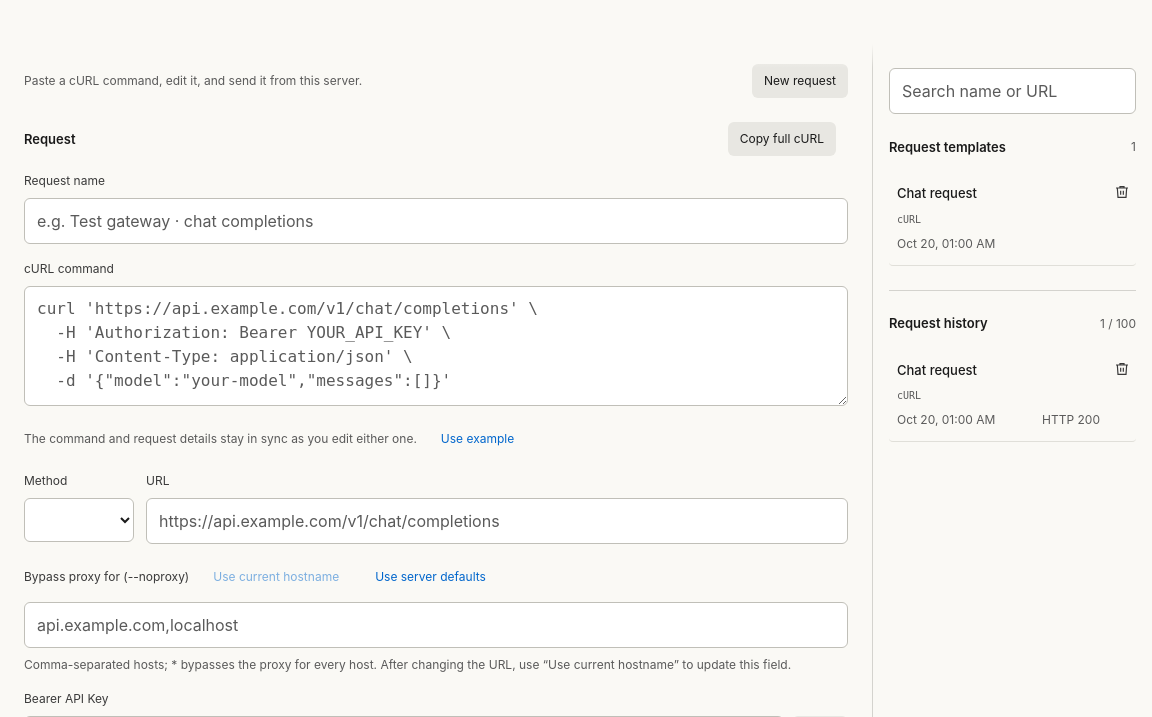
Test: cURL editor › deletes history and templates through separate actions without changing the other list
Click the button named "Delete history entry" at x=1122, y=371, box top-left (1108, 348), bottom-right (1136, 394)
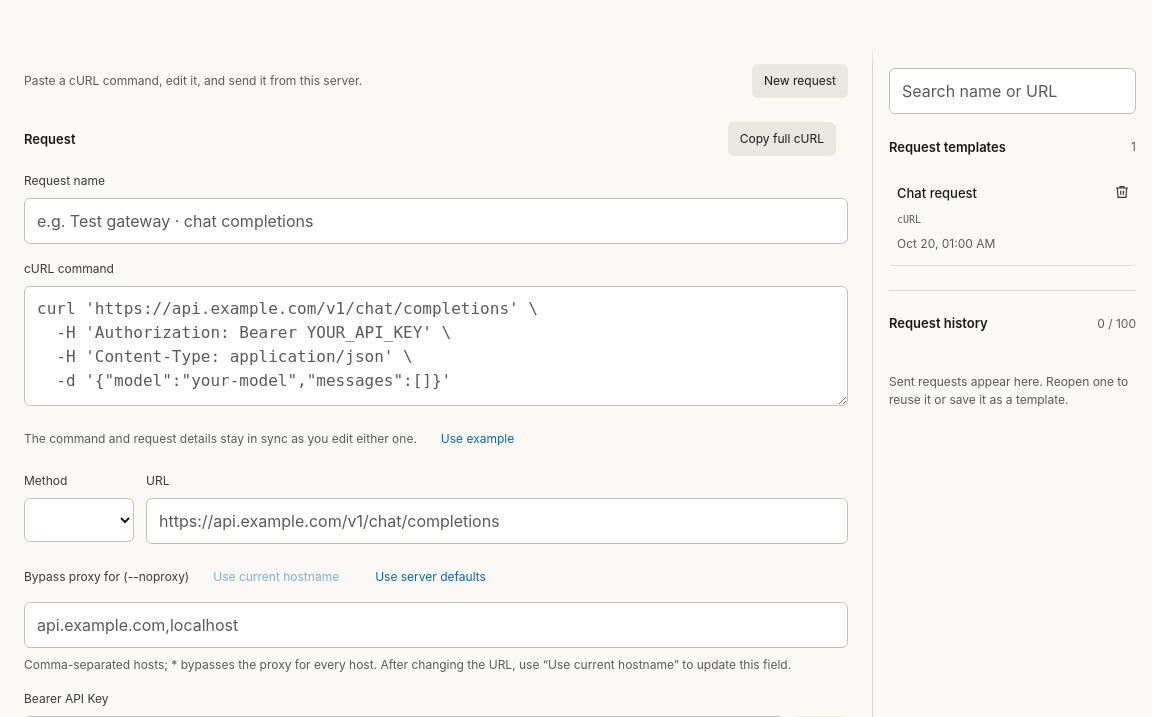
expect the button "Chat request cURL Oct 20, 01:00 AM" is shown: met, box top-left (889, 172), bottom-right (1108, 264)
Click the button named "Delete template" at x=1122, y=194, box top-left (1108, 172), bottom-right (1136, 217)
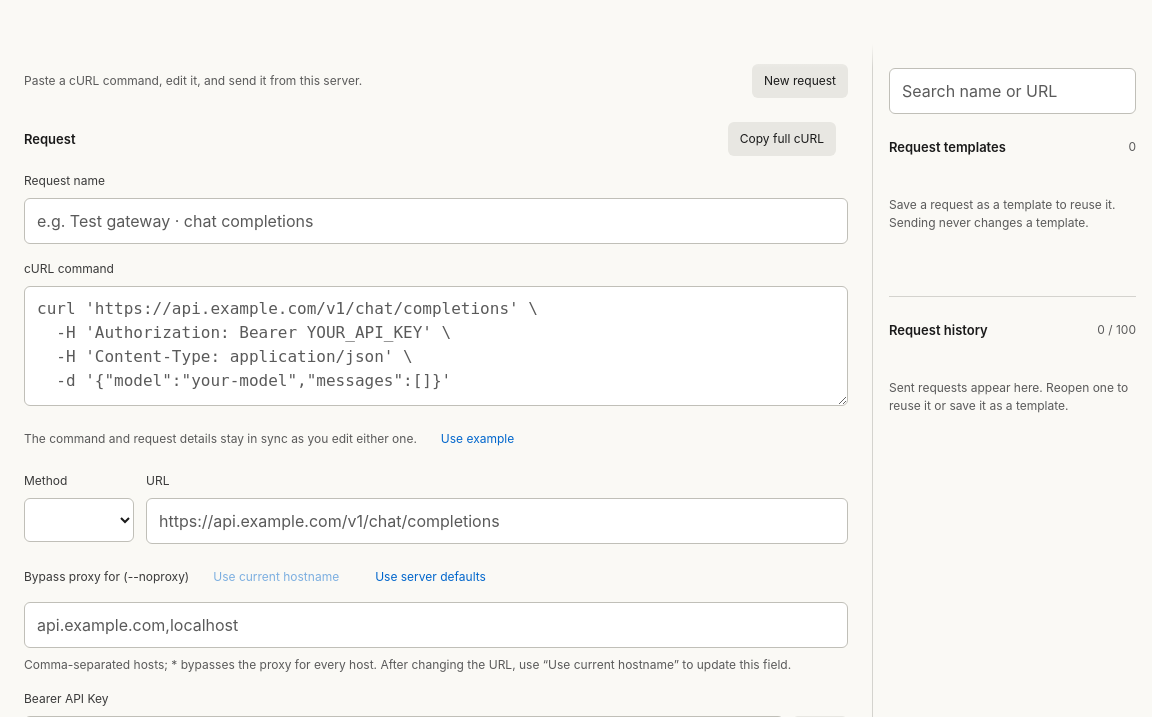
expect the button "Chat request" is gone: met
